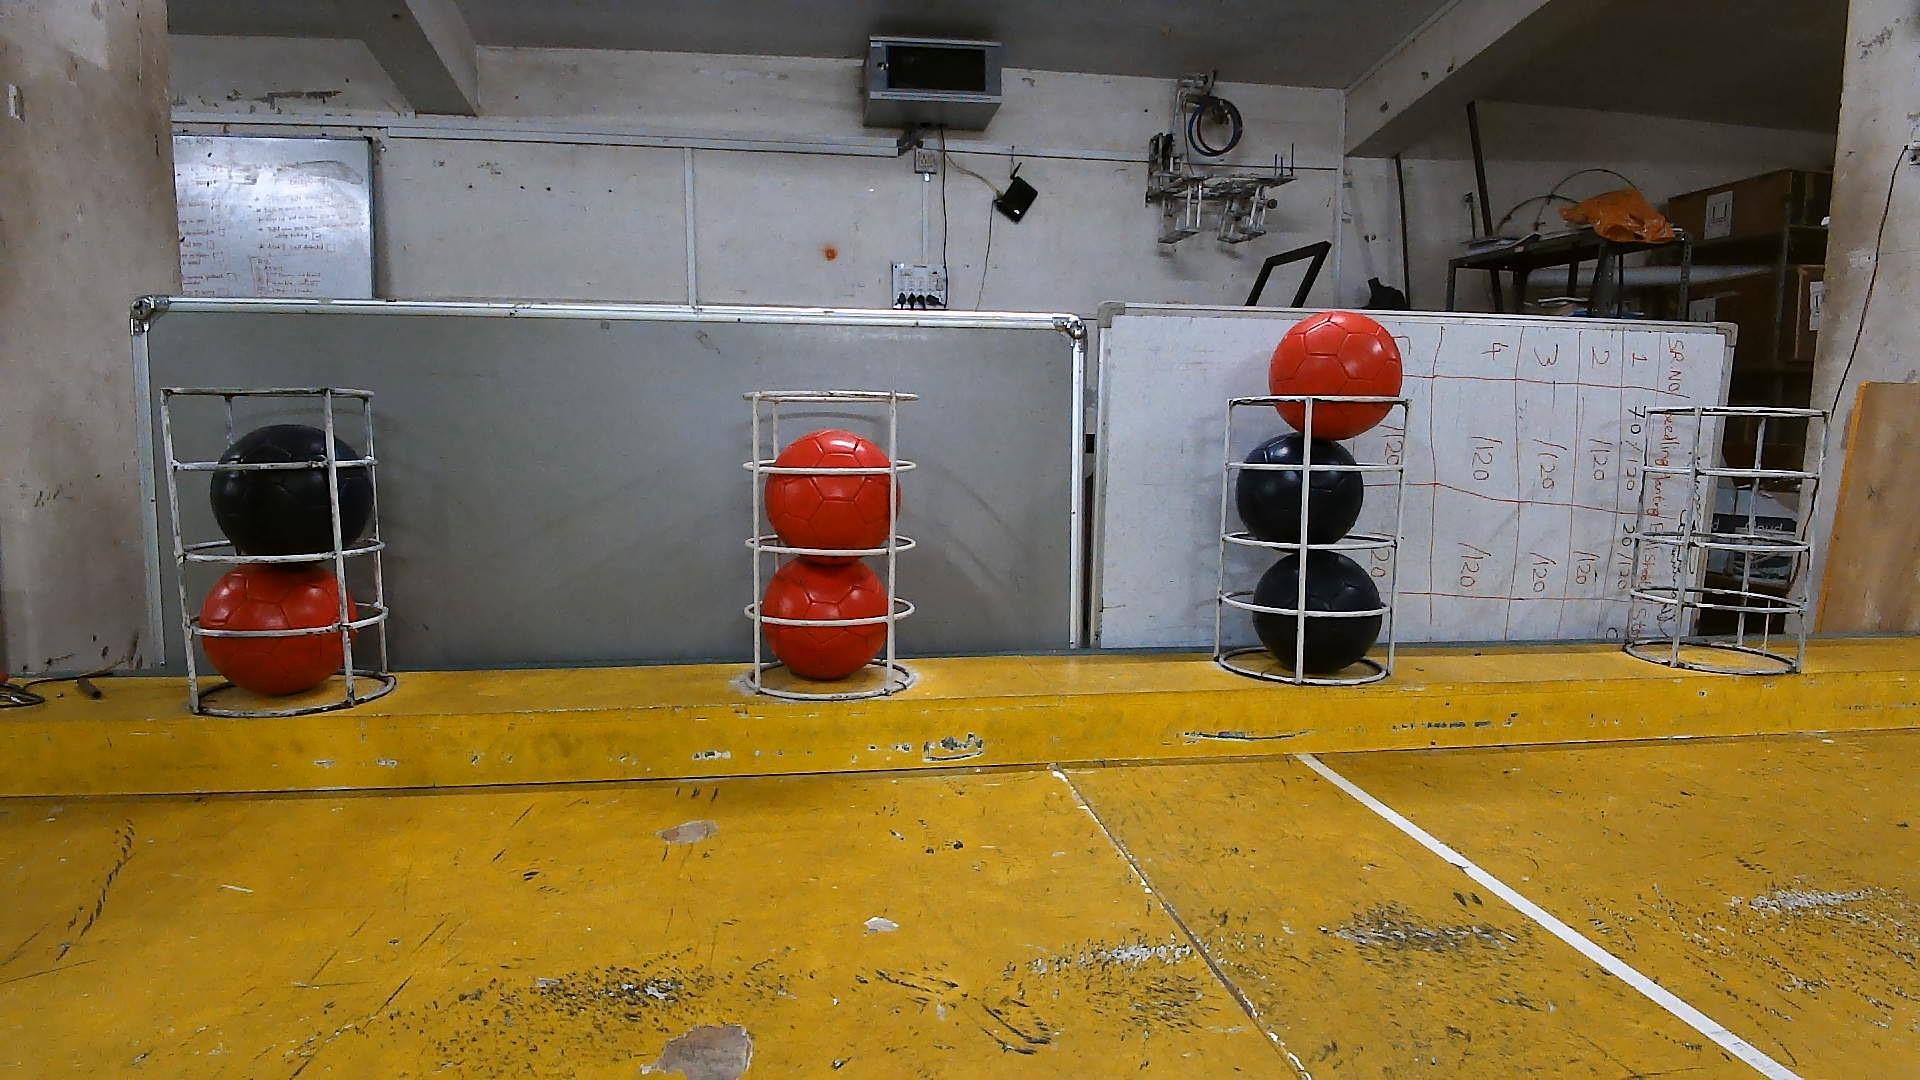dhoka: (210, 423, 375, 559), (1253, 547, 1383, 675), (1234, 431, 1365, 543)
laale: (195, 563, 356, 698), (1267, 311, 1403, 440), (761, 559, 889, 683), (765, 427, 889, 551)
